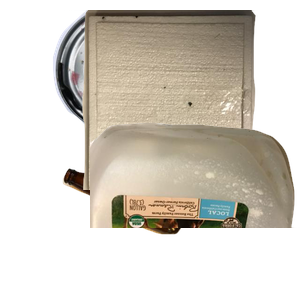glass: (60, 166, 241, 300)
metal: (50, 10, 262, 140)
plastic: (90, 120, 300, 300)
trash: (80, 10, 300, 190)
